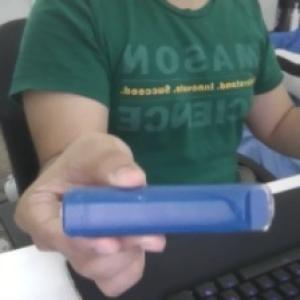Diamond-E-Ciggirate: (60, 180, 276, 238)
